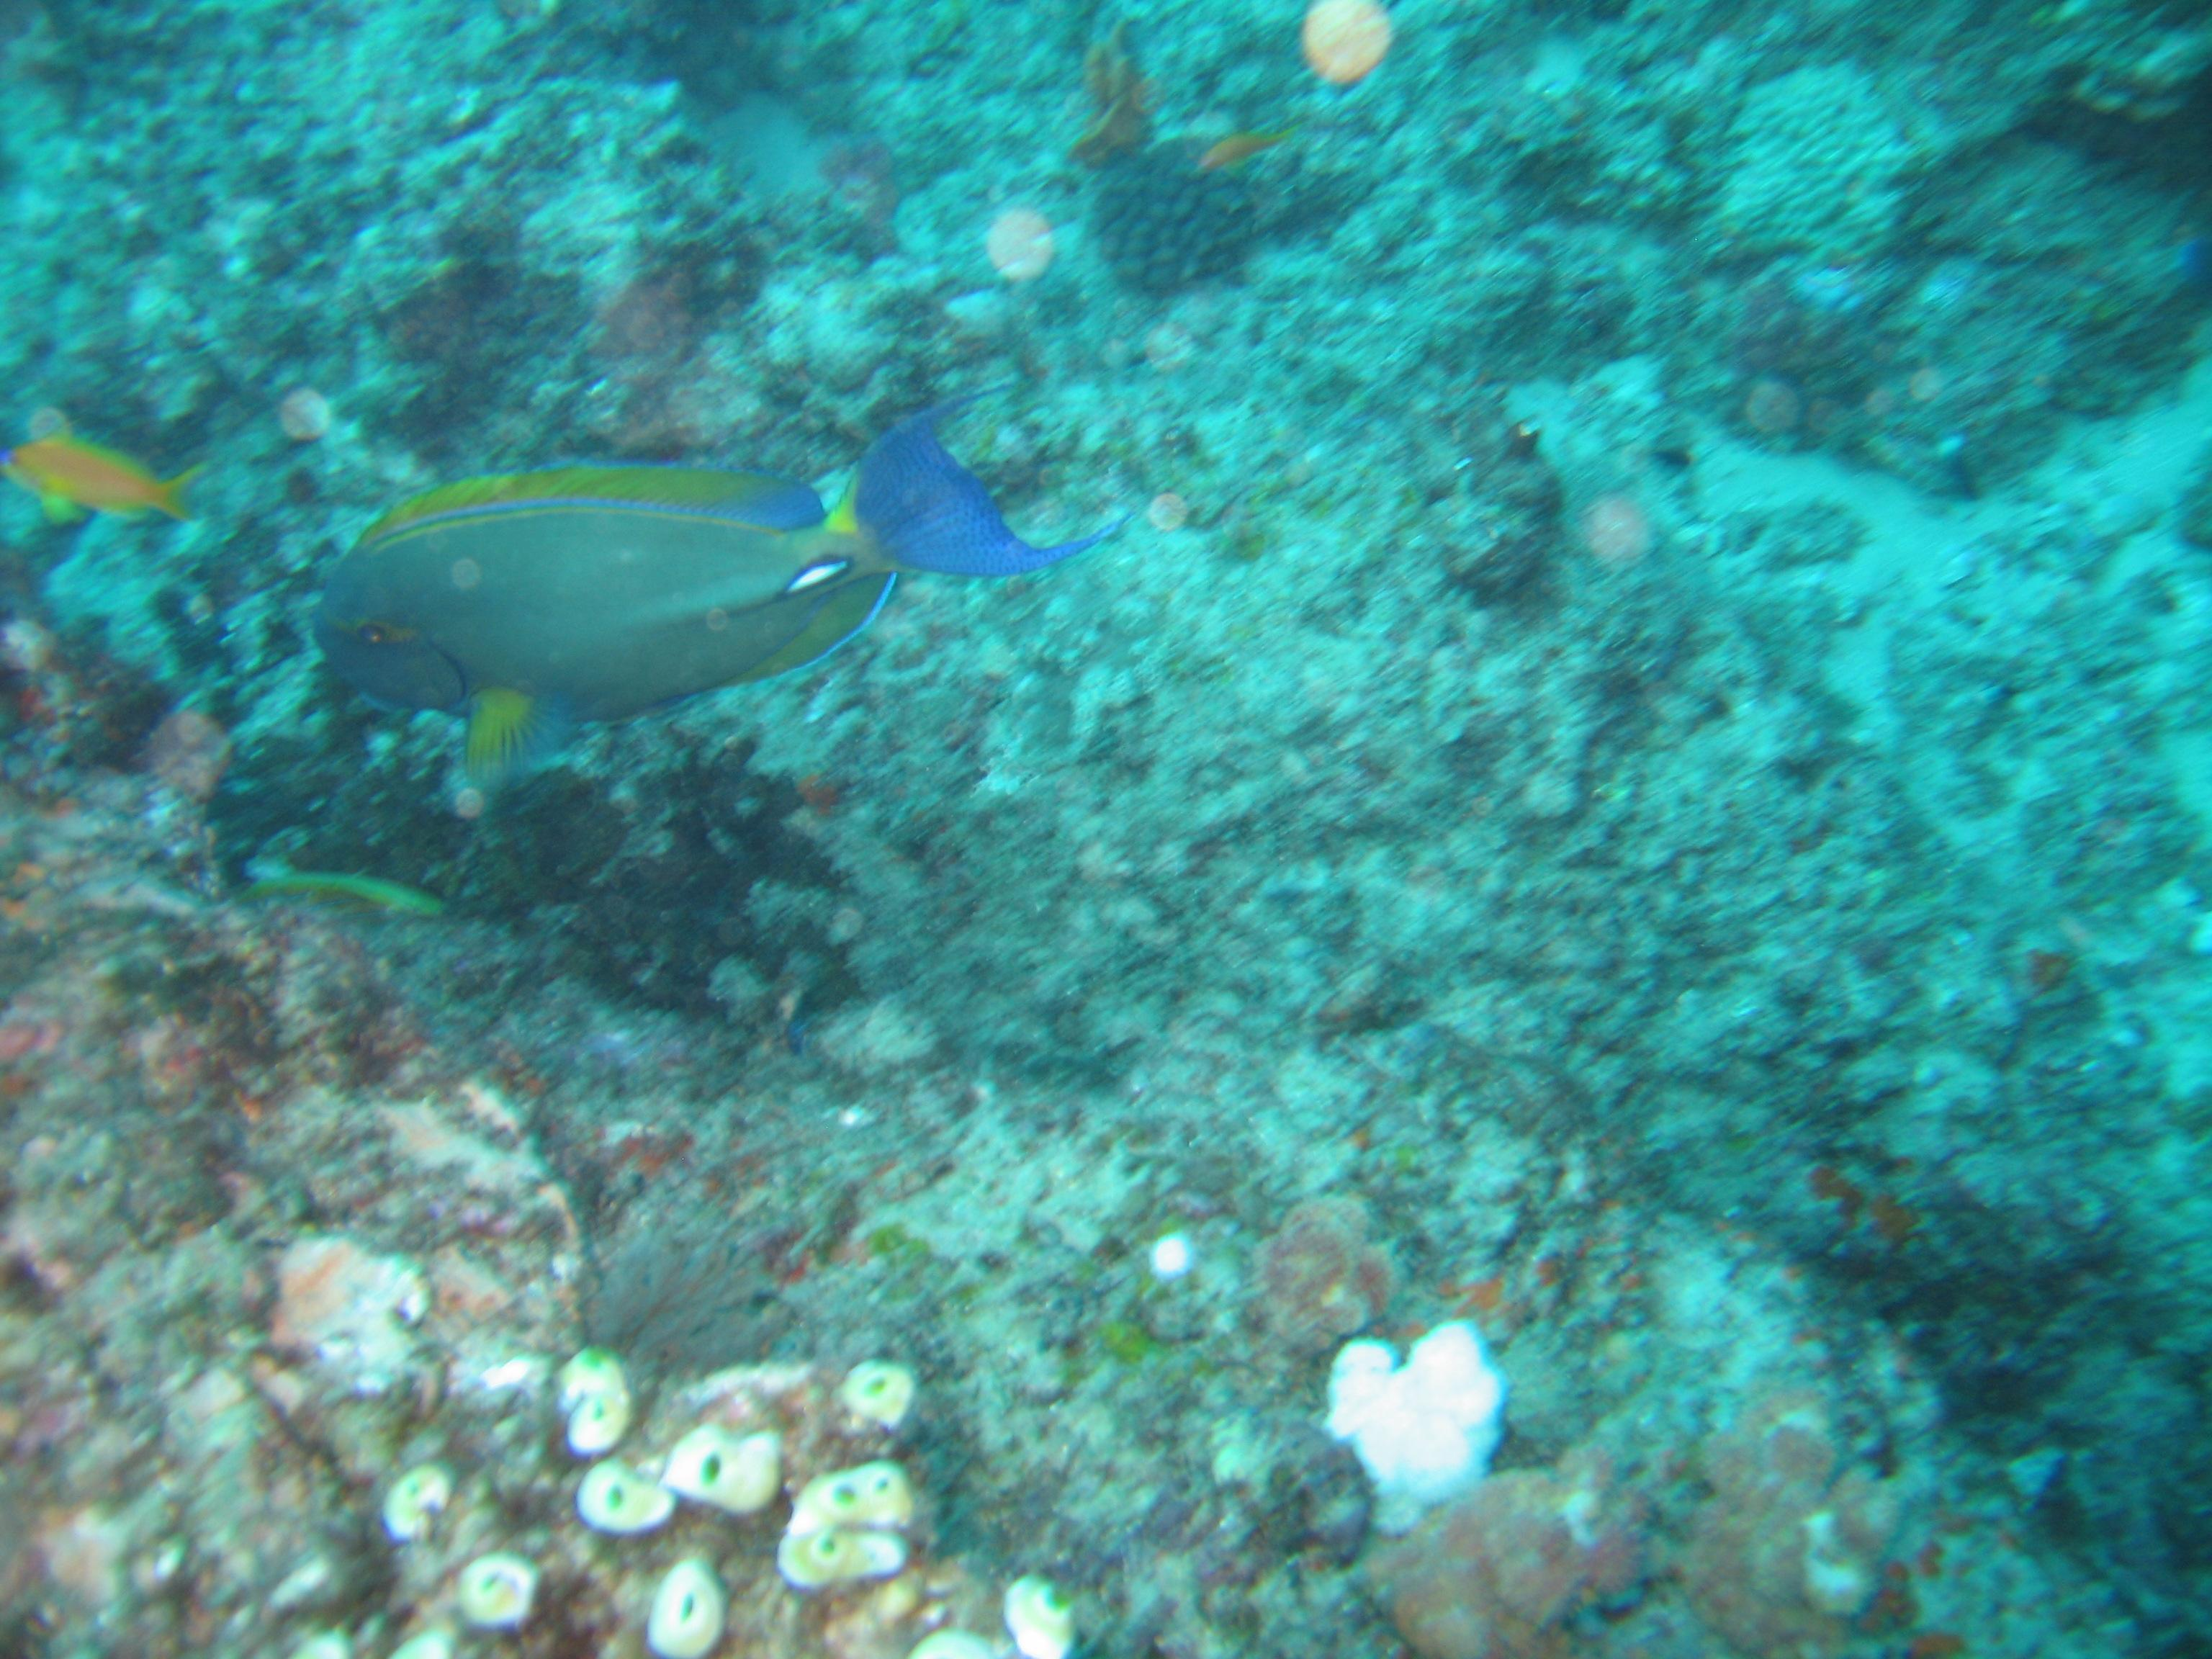Acanthurus dussumieri: (307, 401, 1151, 831)
